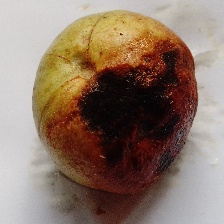guava: (0, 20, 191, 183)
